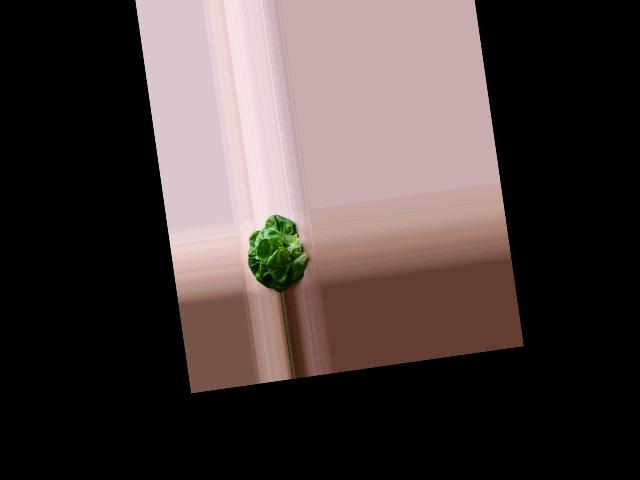lettuce: (242, 213, 309, 294)
